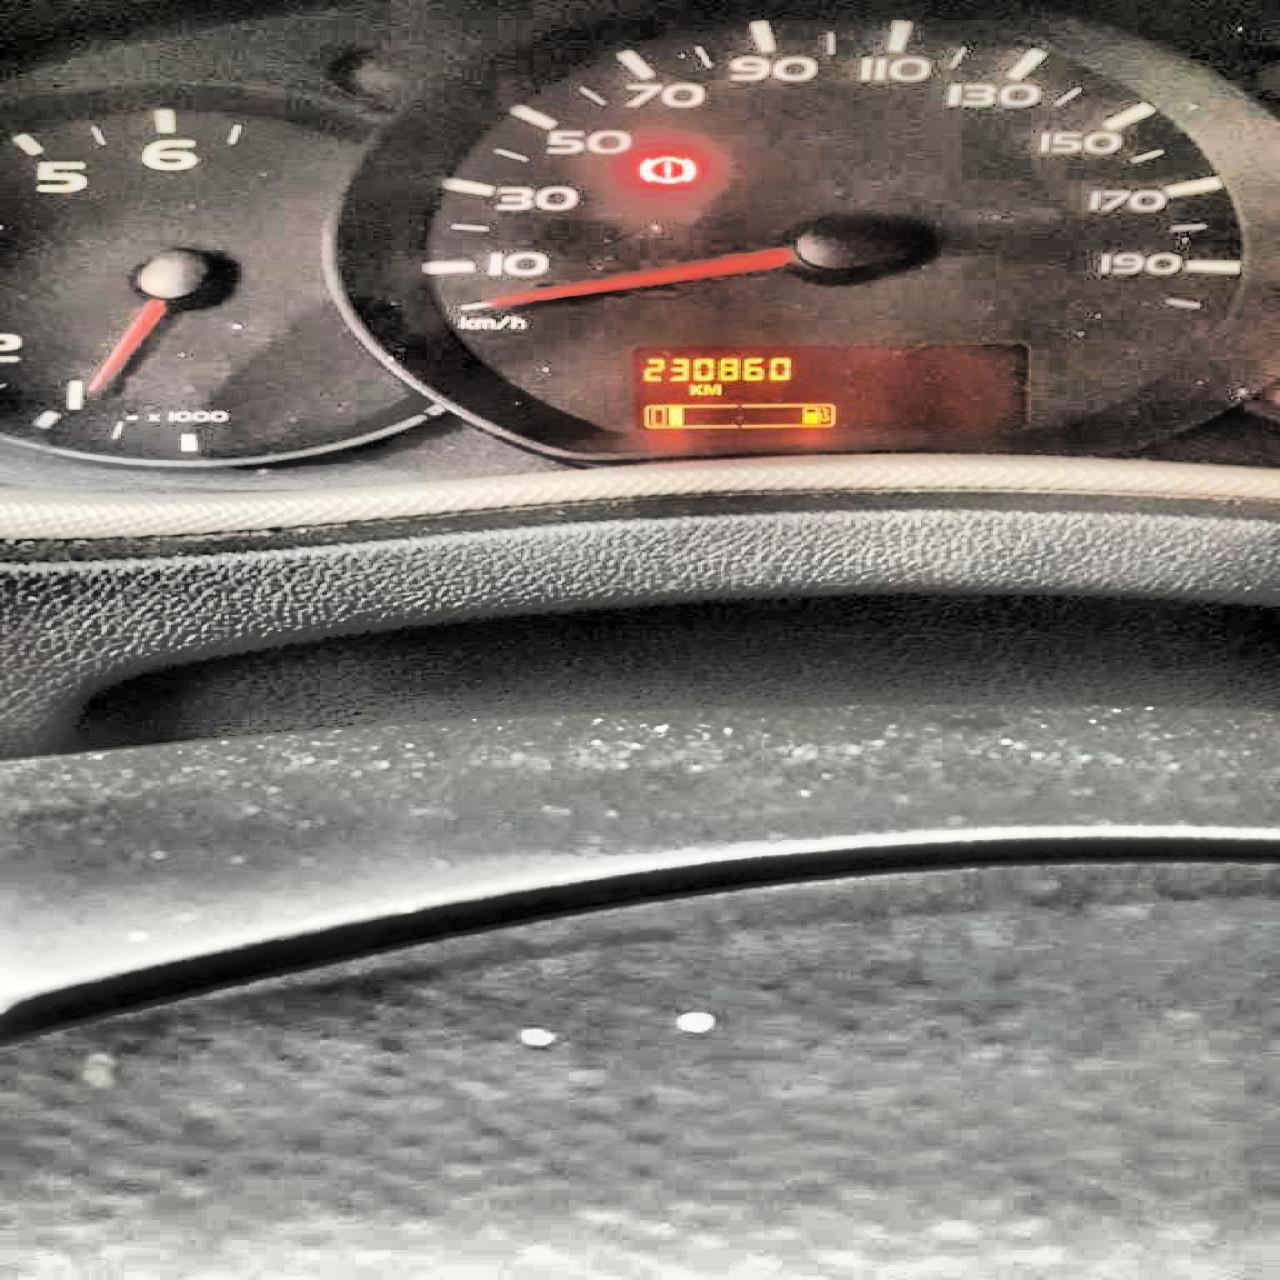0: (767, 355, 791, 380), (689, 356, 713, 380)
2: (642, 356, 665, 381)
3: (669, 356, 687, 381)
6: (740, 355, 764, 380)
8: (715, 355, 737, 381)
X: (702, 382, 722, 396), (687, 381, 702, 395)
odometer: (620, 340, 1040, 437)
